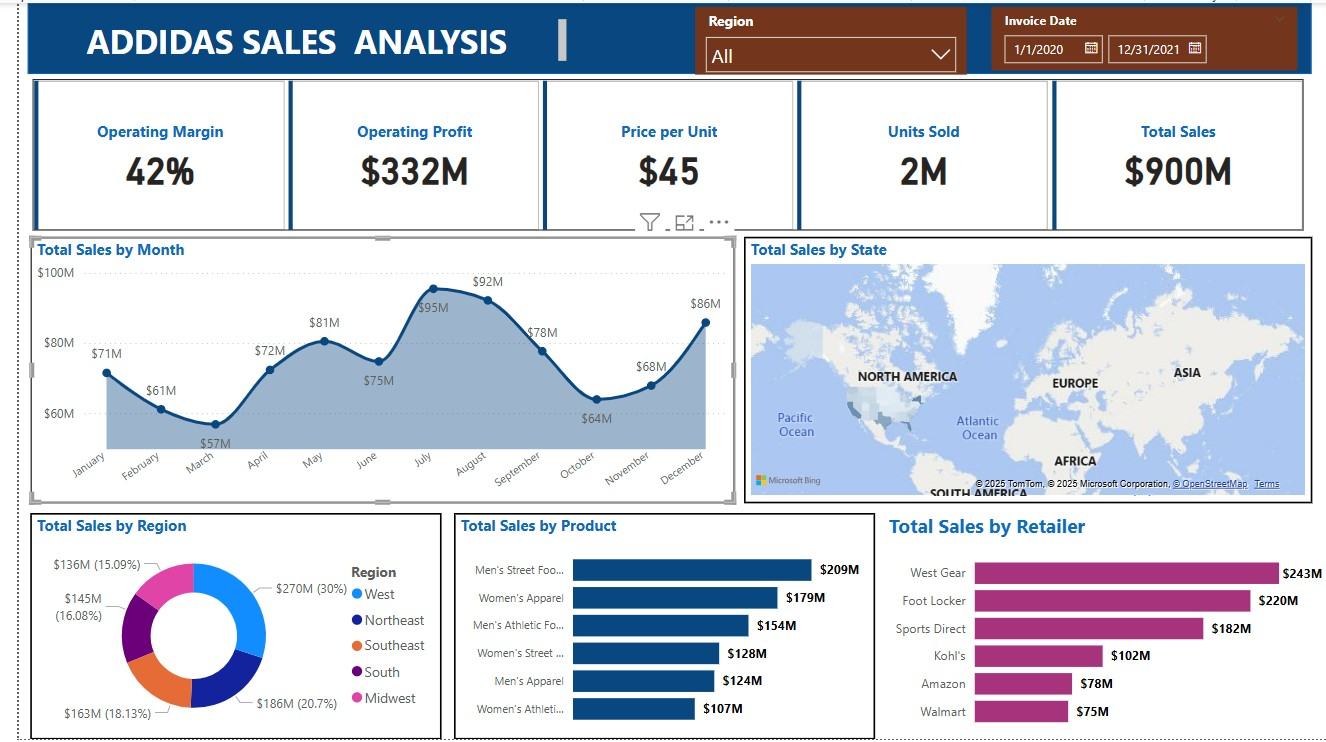

Layout of this report page (visuals, bound fields, positions):
{"tool":"powerbi","page":{"name":"Page 1","canvas":[1280,720],"ordinal":0},"visuals":[{"type":"shape","box":[8.6,0,1255.8,69.7],"z":0},{"type":"textbox","box":[61.1,11,479.4,51.4],"z":1000},{"type":"cardVisual","fields":{"Data":["Avg(Data Sales Adidas.Operating Margin)","Sum(Data Sales Adidas.Operating Profit)","Avg(Data Sales Adidas.Price per Unit)","Sum(Data Sales Adidas.Units Sold)","Sum(Data Sales Adidas.Total Sales)"]},"box":[8.6,69.7,1257.1,159],"z":2000},{"type":"areaChart","title":" Total Sales by Month","fields":{"Category":["Data Sales Adidas.Invoice Date.Variation.Date Hierarchy.Month"],"Y":["Sum(Data Sales Adidas.Total Sales)"]},"box":[11,228.7,689.7,260.5],"z":3000},{"type":"filledMap","title":"Total Sales by State","fields":{"Category":["Data Sales Adidas.State"]},"box":[709.2,228.7,556.4,260.5],"z":4000},{"type":"donutChart","title":" Total Sales by Region","fields":{"Category":["Data Sales Adidas.Region"],"Y":["Sum(Data Sales Adidas.Total Sales)"]},"box":[11,498.9,402.3,221.3],"z":5000},{"type":"barChart","title":" Total Sales by Product","fields":{"Category":["Data Sales Adidas.Product"],"Y":["Sum(Data Sales Adidas.Total Sales)"]},"box":[425.5,498.9,353.4,221.3],"z":6000},{"type":"barChart","title":" Total Sales by Product","fields":{"Category":["Data Sales Adidas.Product"],"Y":["Sum(Data Sales Adidas.Total Sales)"]},"box":[425.5,498.9,412.1,221.3],"z":7000},{"type":"barChart","title":"Total Sales by Retailer","fields":{"Category":["Data Sales Adidas.Retailer"],"Y":["Sum(Data Sales Adidas.Total Sales)"]},"box":[846.2,498.9,434.1,221.3],"z":8000},{"type":"slicer","fields":{"Values":["Data Sales Adidas.Region"]},"box":[661.6,3.7,265.4,66],"z":9000},{"type":"slicer","fields":{"Values":["Data Sales Adidas.Invoice Date"]},"box":[951.4,3.7,299.6,62.4],"z":9001}]}

Visuals, with their boxes in screenshot pixels (x1, y1, x2, y2), scaled from the page's 1280x720 canvas onto the 1326x742 screenshot:
shape: {"left": 9, "top": 0, "right": 1310, "bottom": 72}
textbox: {"left": 63, "top": 11, "right": 560, "bottom": 64}
cardVisual - Avg(Data Sales Adidas.Operating Margin) x Sum(Data Sales Adidas.Operating Profit): {"left": 9, "top": 72, "right": 1311, "bottom": 236}
" Total Sales by Month" areaChart: {"left": 11, "top": 236, "right": 726, "bottom": 504}
"Total Sales by State" filledMap: {"left": 735, "top": 236, "right": 1311, "bottom": 504}
" Total Sales by Region" donutChart: {"left": 11, "top": 514, "right": 428, "bottom": 741}
" Total Sales by Product" barChart: {"left": 441, "top": 514, "right": 807, "bottom": 741}
" Total Sales by Product" barChart: {"left": 441, "top": 514, "right": 868, "bottom": 741}
"Total Sales by Retailer" barChart: {"left": 877, "top": 514, "right": 1325, "bottom": 741}
slicer - Data Sales Adidas.Region: {"left": 685, "top": 4, "right": 960, "bottom": 72}
slicer - Data Sales Adidas.Invoice Date: {"left": 986, "top": 4, "right": 1296, "bottom": 68}
